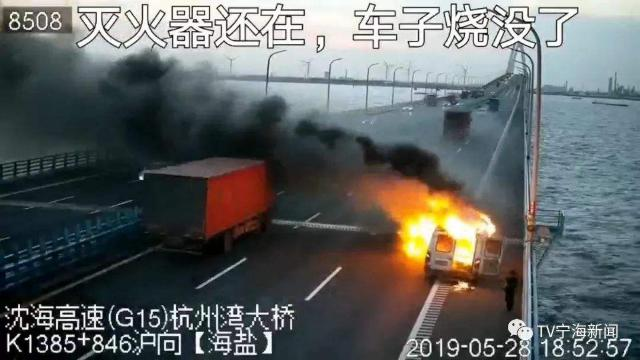fire: (399, 182, 497, 275)
